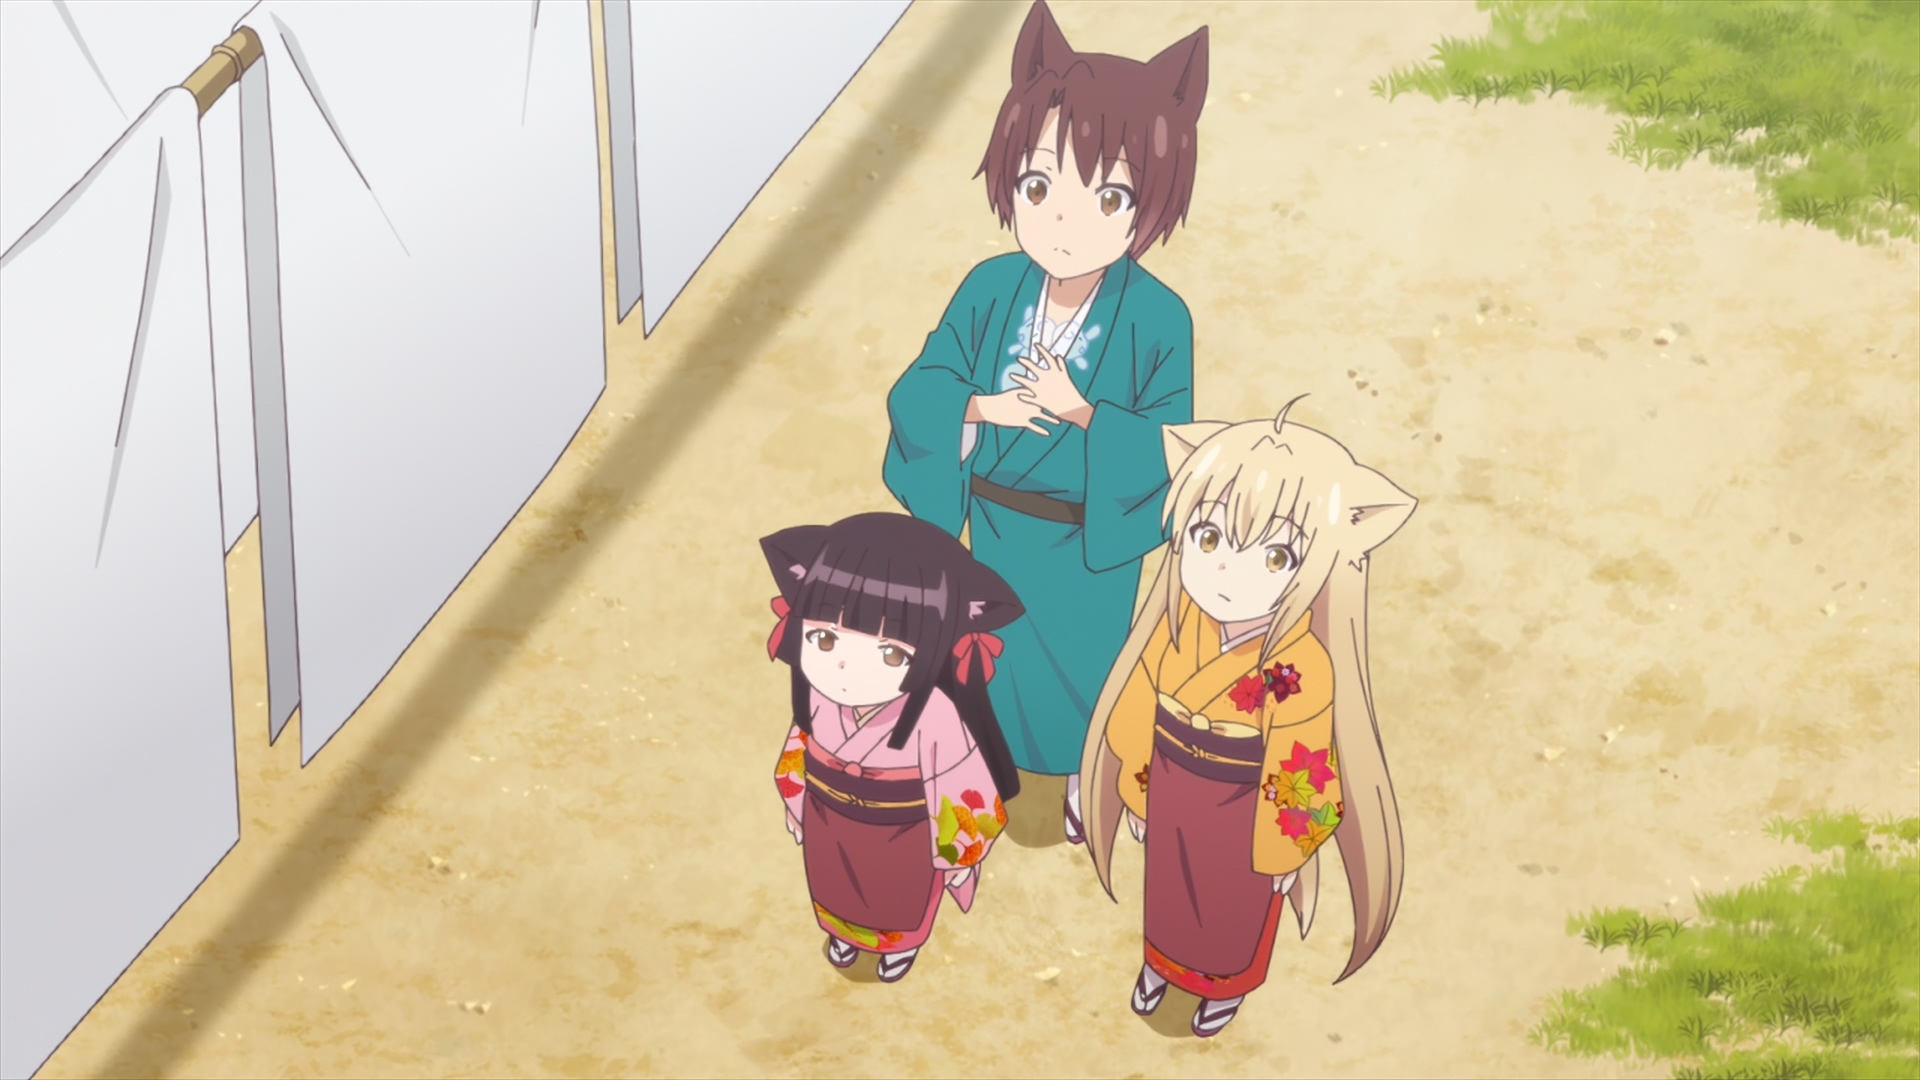枣: (880, 1, 1207, 847)
柚: (1077, 396, 1420, 1039)
樱: (761, 513, 1027, 982)
